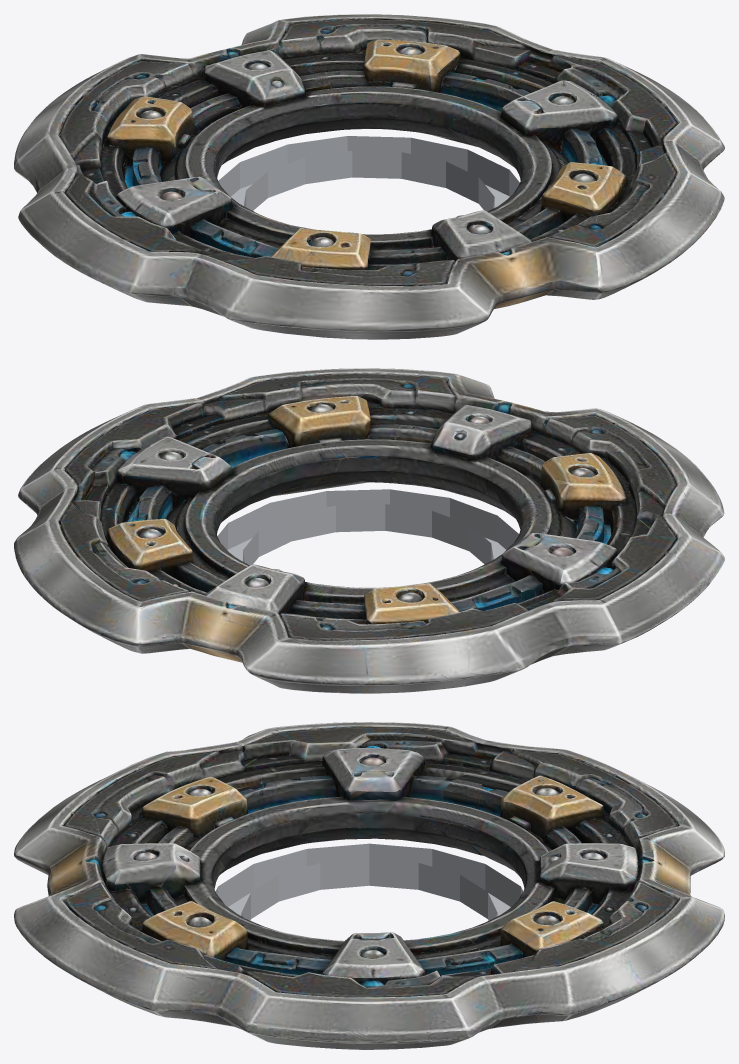
The model's file is bulwark.glb.
3 views of the same model, one above another, from view 1: azimuth 30°, elevation 25°; view 2: azimuth 150°, elevation 25°; view 3: azimuth 270°, elevation 25° (orthographic).
Parts seen in each view (by area): view 1: mesh_node; view 2: mesh_node; view 3: mesh_node.
Part boxes in pixels (<box>): mesh_node: <box>14,14,724,339</box>; mesh_node: <box>14,368,724,693</box>; mesh_node: <box>14,722,724,1049</box>.
Size of the model in its own units: 49.04 by 6.47 by 47.72.
Materials: 2 (1 with a texture image).
